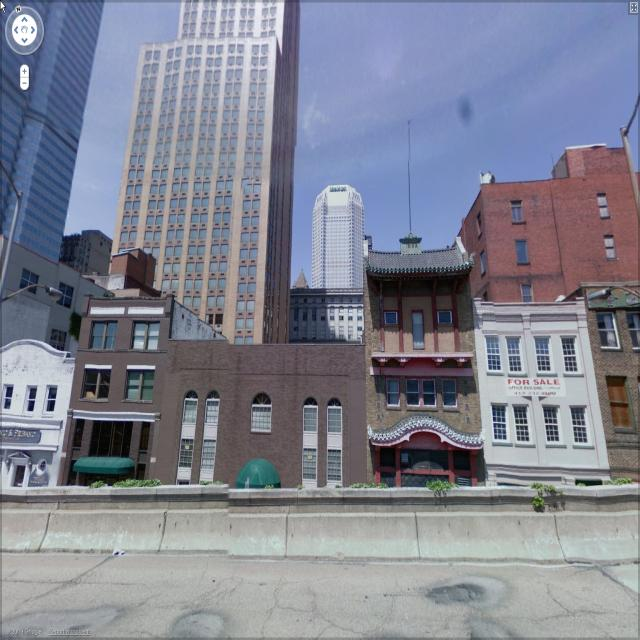b_1: (116, 0, 300, 274), (169, 332, 371, 510), (364, 235, 492, 499), (466, 132, 640, 300), (472, 297, 610, 489), (60, 297, 172, 487), (0, 4, 70, 249), (287, 180, 373, 342), (0, 334, 78, 488), (588, 272, 640, 446), (59, 225, 114, 291)
